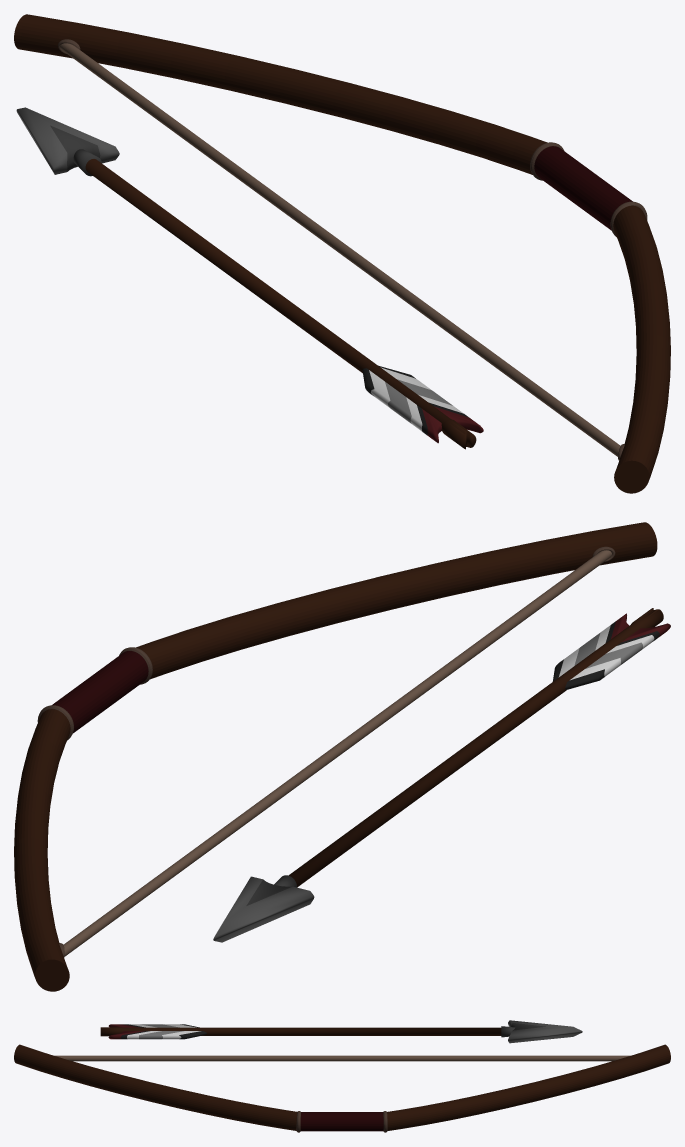
Rendered from bow and arrow.fbx.
3 renders of one model, top to bottom at view 1: azimuth 30°, elevation 25°; view 2: azimuth 150°, elevation 25°; view 3: azimuth 270°, elevation 25°, orthographic. The views are drawn at different scales.
Parts seen in each view (by area): view 1: Bow & Arrow; view 2: Bow & Arrow; view 3: Bow & Arrow.
Boxes of the visible parts, box(x1,y1,x2,y2) form: Bow & Arrow: box(14, 14, 670, 493); Bow & Arrow: box(14, 522, 670, 991); Bow & Arrow: box(14, 1020, 670, 1132).
Size of the model in its own units: 8480 by 758 by 22827.
